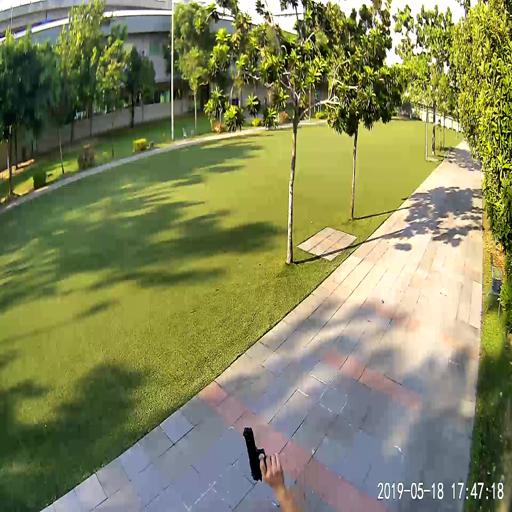pistol: (242, 423, 267, 483)
